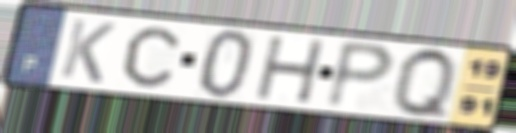0: (194, 28, 257, 100)
C: (120, 25, 182, 89)
H: (253, 35, 329, 105)
K: (56, 16, 118, 86)
P: (322, 38, 400, 112)
Q: (392, 44, 458, 124)
